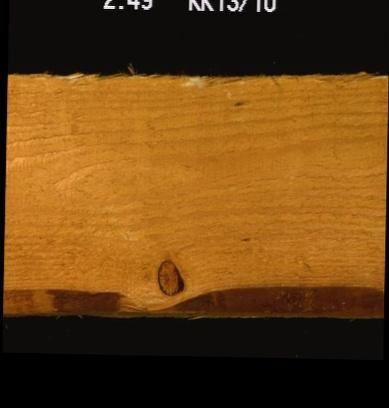dry_knot: (154, 256, 185, 295)
wave: (162, 270, 380, 318), (2, 281, 145, 313)
